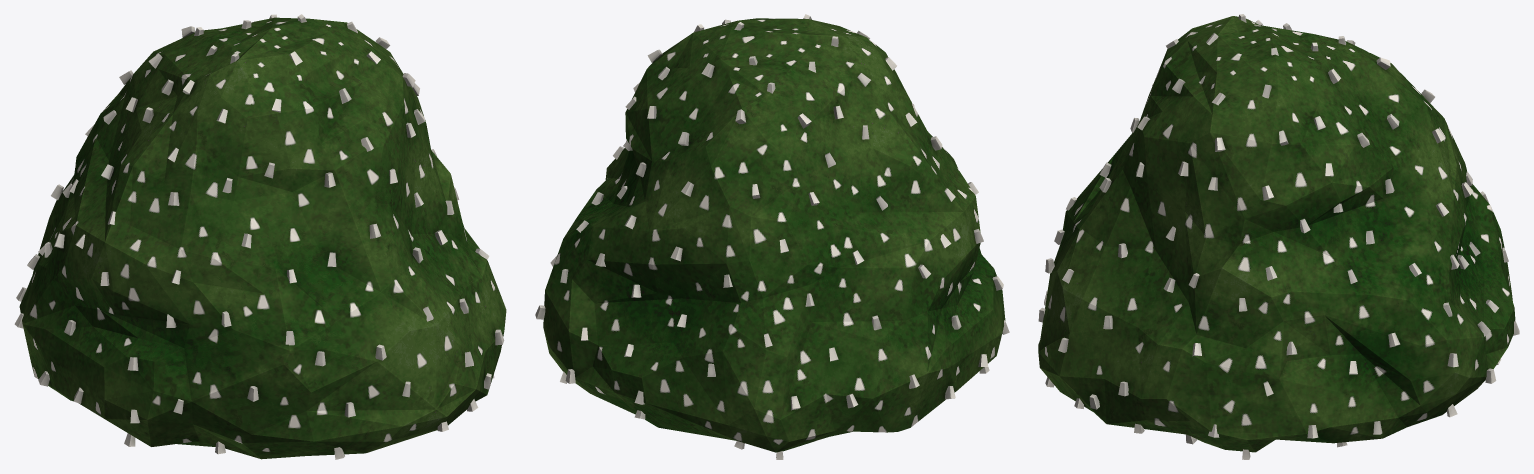
Rendered from tree-chestnut-GB.fbx.
3 renders of one model, left to right at view 1: azimuth 30°, elevation 25°; view 2: azimuth 150°, elevation 25°; view 3: azimuth 270°, elevation 25°, orthographic. The views are drawn at different scales.
Parts seen in each view (by area): view 1: ChestnutTree_Mesh; view 2: ChestnutTree_Mesh; view 3: ChestnutTree_Mesh.
Boxes of the visible parts, bbox=[...] form: ChestnutTree_Mesh: bbox=[14, 14, 506, 459]; ChestnutTree_Mesh: bbox=[535, 14, 1009, 459]; ChestnutTree_Mesh: bbox=[1038, 14, 1519, 459].
Size of the model in its own units: 2735 by 2521 by 2803.
1 material, 1 textured.
